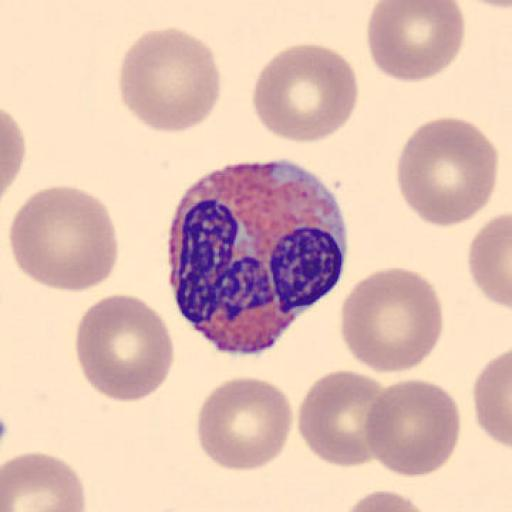RBC: (8, 183, 119, 294), (395, 115, 500, 229), (339, 264, 445, 374), (116, 26, 222, 136), (251, 41, 361, 145), (74, 292, 175, 403), (363, 376, 462, 479), (195, 375, 294, 473), (296, 368, 388, 470), (365, 0, 466, 85), (1, 450, 87, 512), (468, 209, 512, 311), (472, 346, 512, 452), (1, 106, 26, 204), (337, 488, 435, 512), (455, 0, 512, 10)
WBC: (165, 154, 348, 358)
